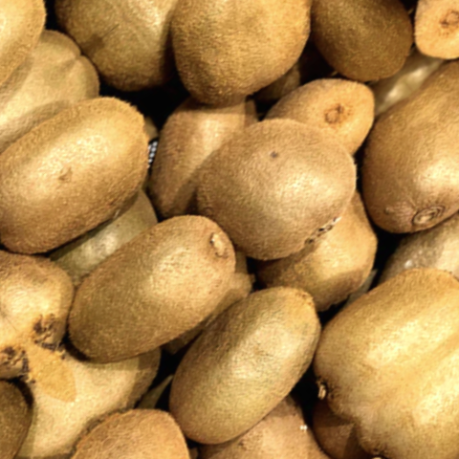kiwi: (169, 79, 402, 313), (34, 182, 269, 404), (135, 245, 371, 459), (0, 63, 188, 295), (285, 227, 459, 425), (118, 0, 353, 141)
